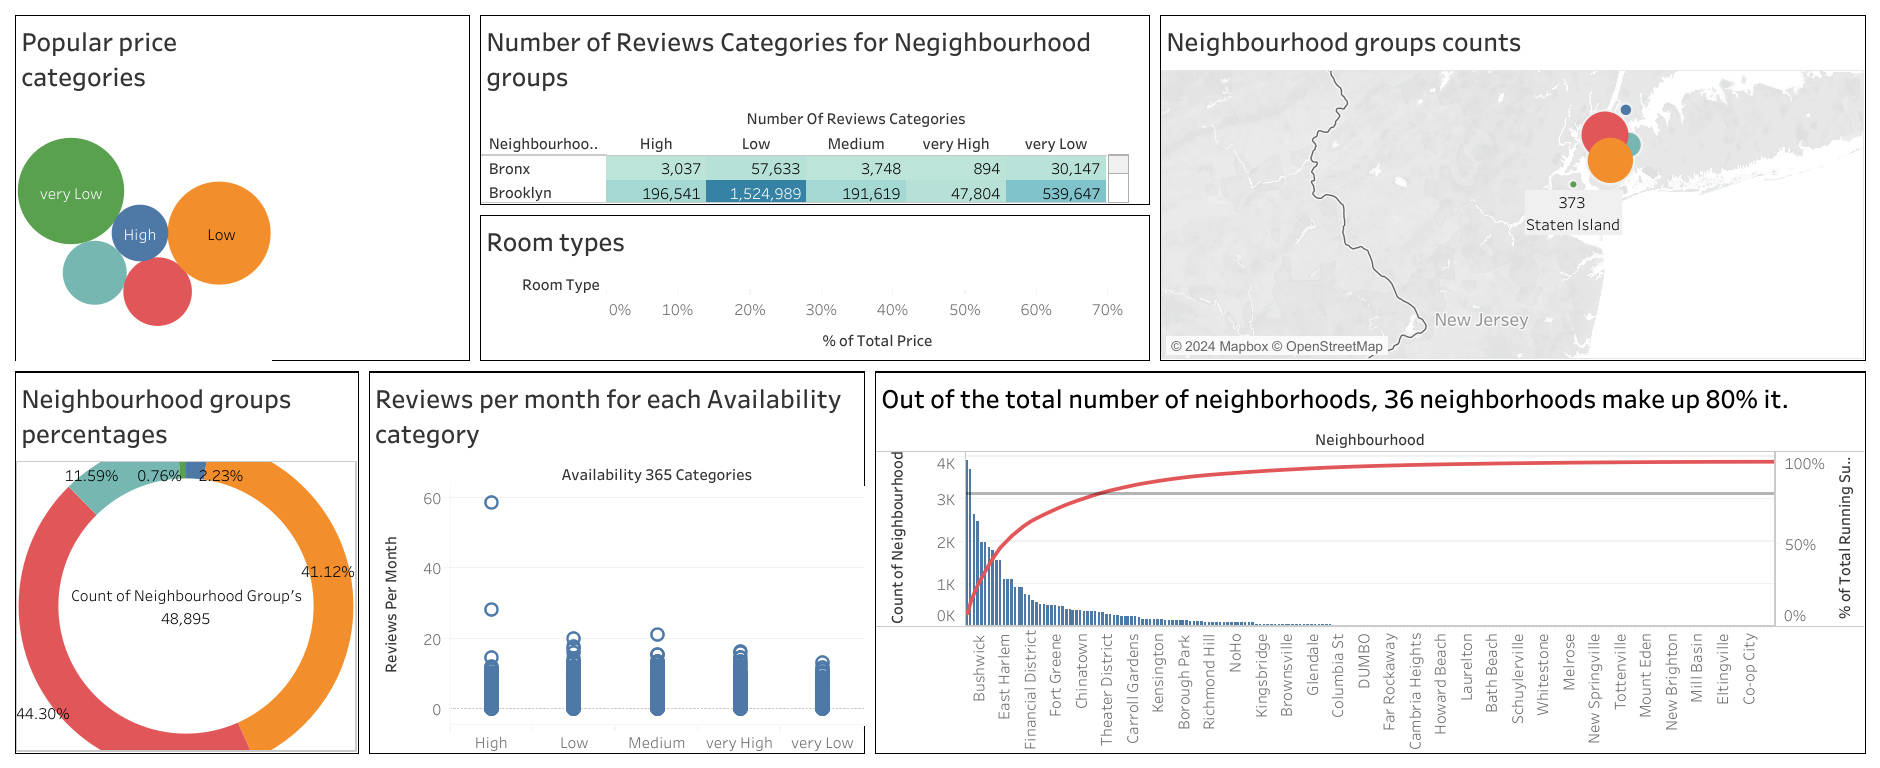

This screenshot's page, from the dashboard's own definition file:
{"tool":"tableau","page":{"name":"Dashboard 1","canvas":[1000,1000],"units":"permille","ordinal":0},"visuals":[{"type":"worksheet","title":"Sheet 4","mark":"Circle","box":[6.4,9.4,246.8,466.3]},{"type":"worksheet","title":"Sheet 8","mark":"Square","rows":["neighbourhood_group"],"cols":["number_of_reviews_categories"],"box":[253.2,9.4,360.2,261.9]},{"type":"worksheet","title":"Sheet 3","mark":"Automatic","rows":["latitude"],"cols":["longitude"],"box":[613.4,9.4,380.2,466.3]},{"type":"worksheet","title":"Sheet 5","mark":"Automatic","rows":["room_type"],"cols":["price"],"box":[253.2,271.3,360.2,204.4]},{"type":"worksheet","title":"Sheet 2","mark":"Pie","cols":["Calculation_708754054869766145","Calculation_708754054869766145"],"box":[6.4,475.7,187.8,514.9]},{"type":"worksheet","title":"Sheet 7","mark":"Shape","rows":["reviews_per_month"],"cols":["availability_365_categories"],"box":[194.1,475.7,268.2,514.9]},{"type":"worksheet","title":"Sheet 1","mark":"Automatic","rows":["neighbourhood","neighbourhood"],"cols":["neighbourhood"],"box":[462.4,475.7,531.3,514.9]}]}

Visuals, with their boxes on the dashboard's canvas, which has no fixed pixel size, in thousandths of its width and height (x1, y1, x2, y2). These are canvas units, not pixel positions in the 1880x768 screenshot, which may show the page scaled, cropped or inside an application window:
"Sheet 4" worksheet (Circle marks): 6:9:253:476
"Sheet 8" worksheet (Square marks): 253:9:613:271
"Sheet 3" worksheet: 613:9:994:476
"Sheet 5" worksheet: 253:271:613:476
"Sheet 2" worksheet (Pie marks): 6:476:194:991
"Sheet 7" worksheet (Shape marks): 194:476:462:991
"Sheet 1" worksheet: 462:476:994:991
